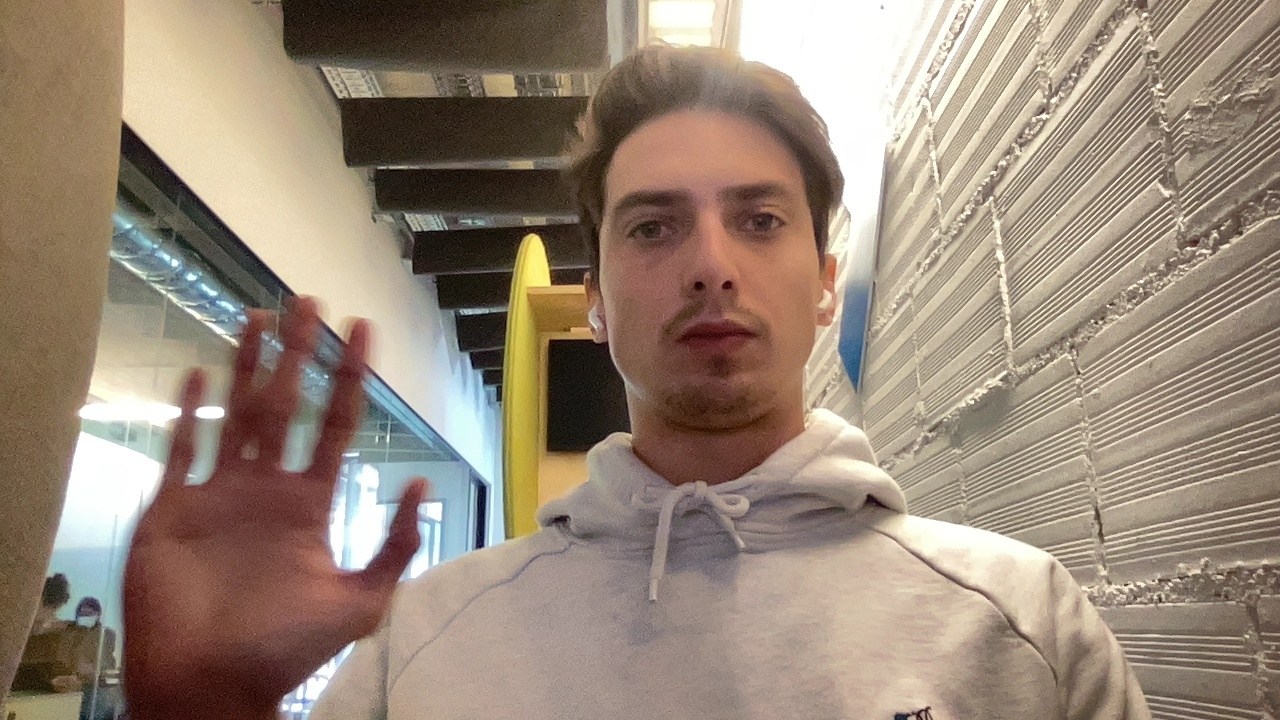Hello: (103, 283, 441, 702)
